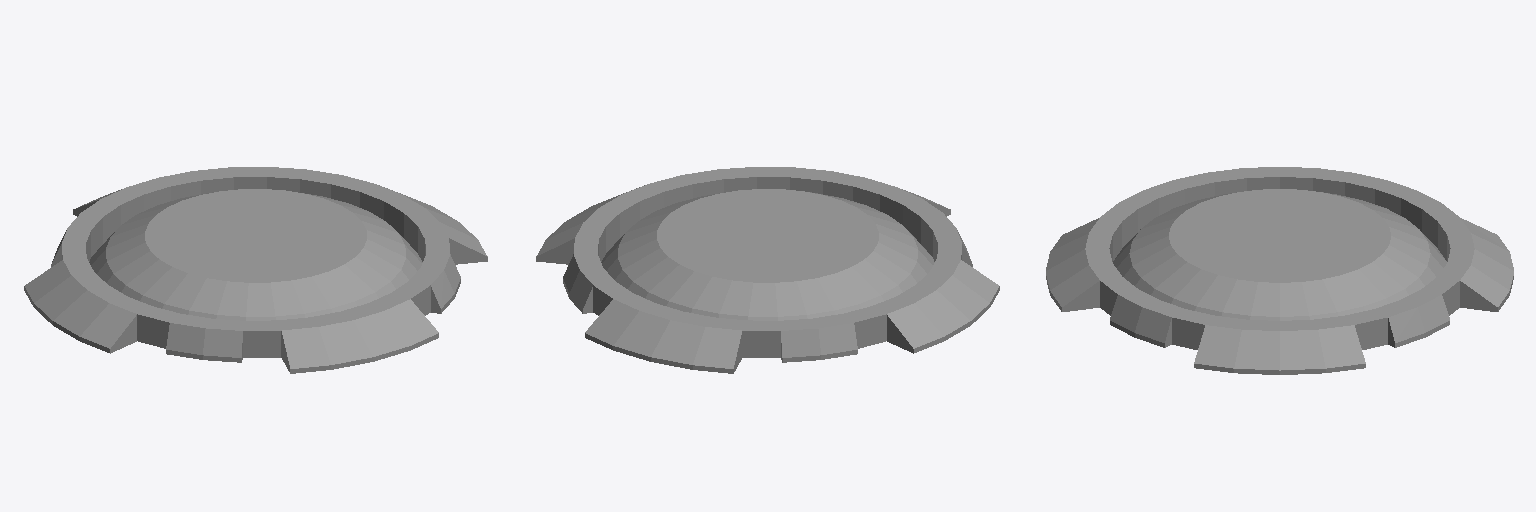
File: button.obj
3 views of the same model, side by side, from view 1: azimuth 30°, elevation 25°; view 2: azimuth 150°, elevation 25°; view 3: azimuth 270°, elevation 25° (orthographic).
Visible parts, largest first — view 1: Circle_Circle.001, Circle.001_Circle.003; view 2: Circle_Circle.001, Circle.001_Circle.003; view 3: Circle_Circle.001, Circle.001_Circle.003.
Boxes of the visible parts, x1=… form: Circle_Circle.001: x1=24, y1=167, x2=487, y2=373; Circle.001_Circle.003: x1=89, y1=189, x2=422, y2=320; Circle_Circle.001: x1=536, y1=167, x2=999, y2=373; Circle.001_Circle.003: x1=601, y1=189, x2=934, y2=320; Circle_Circle.001: x1=1046, y1=167, x2=1513, y2=374; Circle.001_Circle.003: x1=1113, y1=189, x2=1446, y2=320.
Size of the model in its own units: 2.75 by 0.2605 by 2.75.